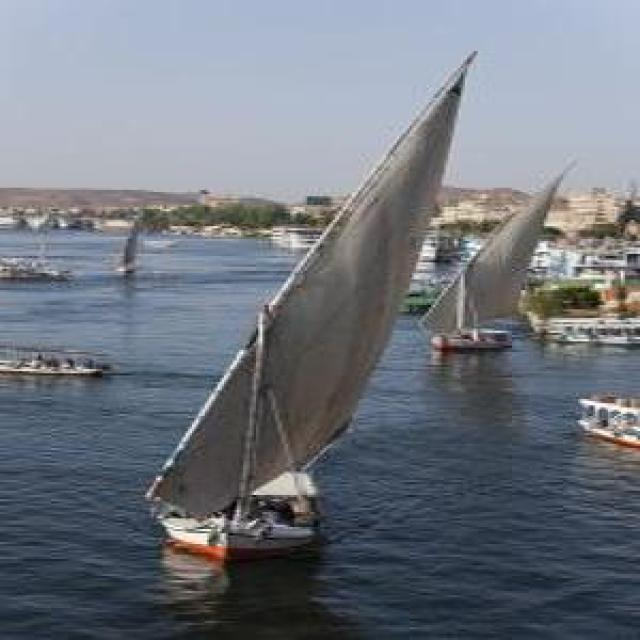houseboat: (0, 329, 107, 384), (569, 386, 640, 448)
sailboat: (145, 38, 479, 556), (422, 156, 576, 358), (102, 208, 147, 274)
